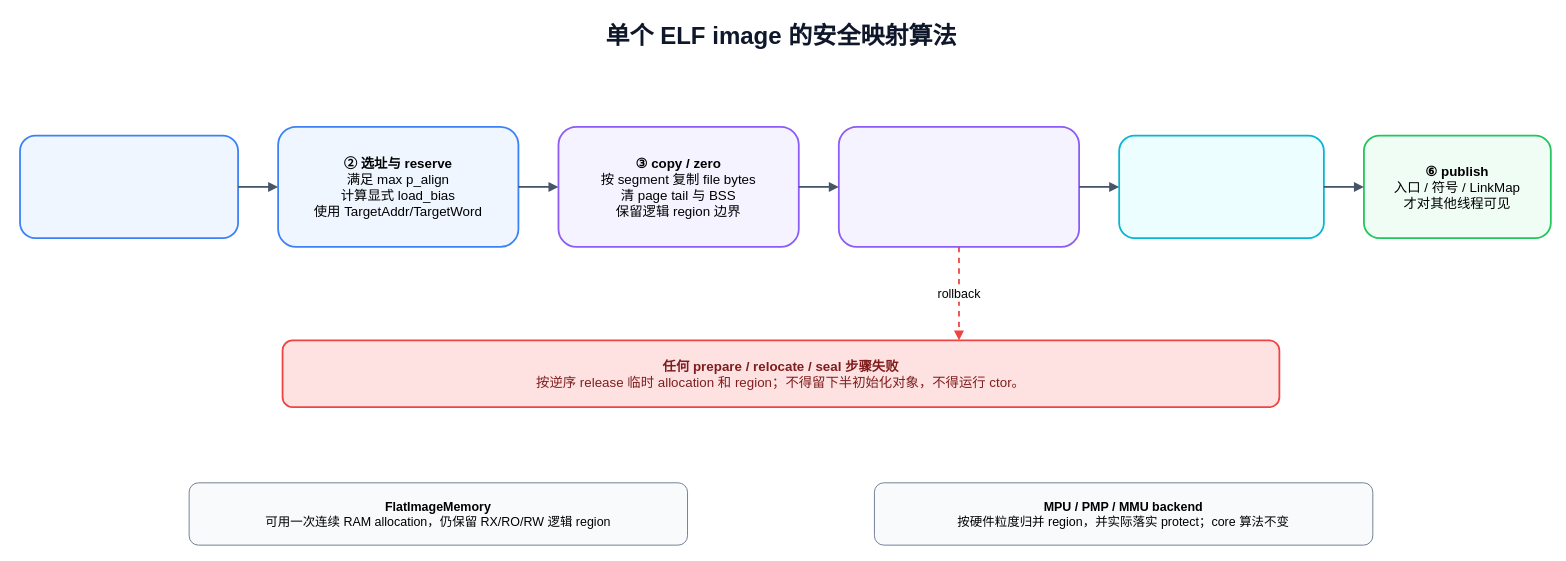
The diagram is 1566 pixels wide and 561 high, and some of its shapes have lost their labels. Here are the shapes that lost their labels. From the top down, the centre of each, then its label:
the point at 129,186: ① 预扫描 PT_LOAD checked range / span 上限 / 对齐 / 权限
the point at 958,186: ④ relocation 后 seal 写入前逐项 check_range 最终 PF_* / RELRO 拒绝 W+X
the point at 1221,186: ⑤ cache / fence D-cache clean I-cache invalidate / fence.i
